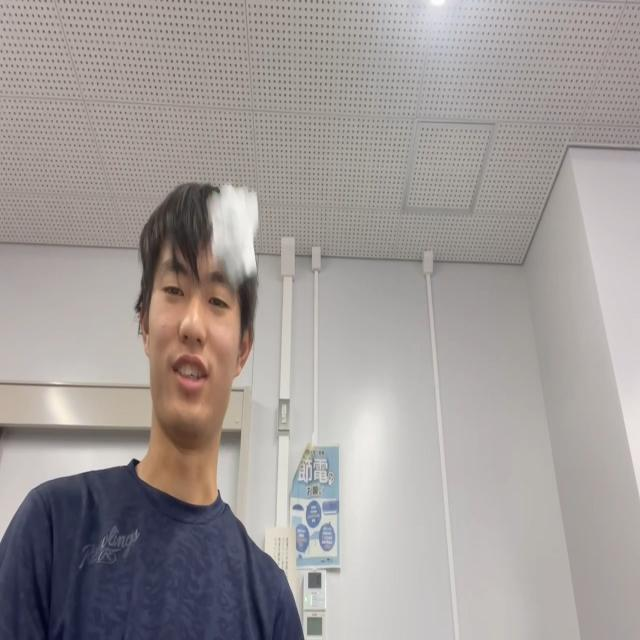paper: (206, 182, 258, 289)
